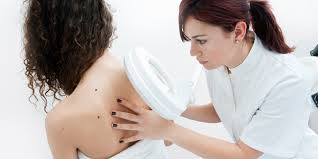mole: (93, 112, 103, 122), (90, 84, 100, 92)
